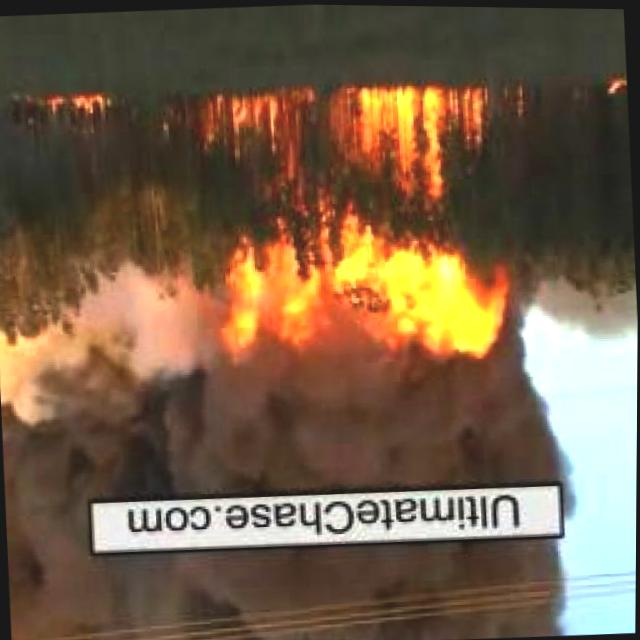Fire: (205, 74, 514, 370), (39, 93, 111, 128)
Smoke: (0, 334, 572, 512), (8, 531, 571, 640)
